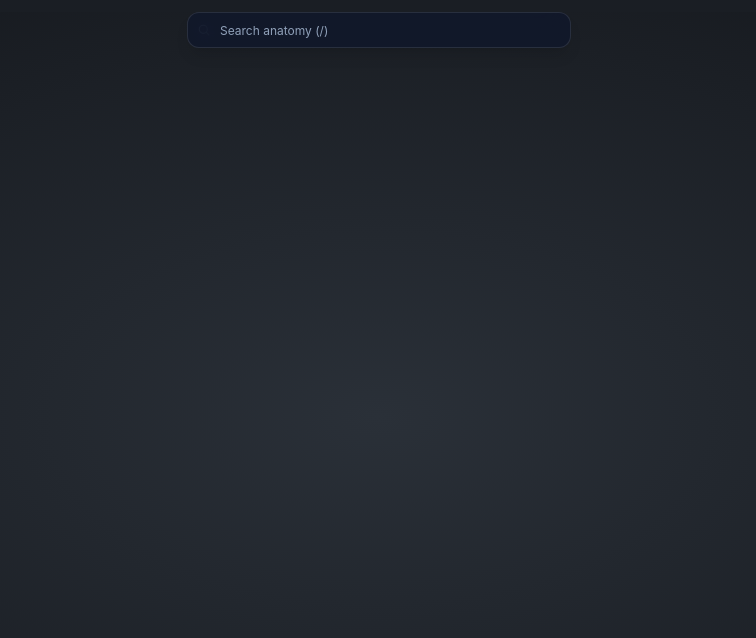
Test: SearchBox › filters hits and dispatches revealAndFocus on ArrowDown + Enter
Type "thi" into the dropdown named "Search structures".
click(379, 30); type("thi")  # box top-left (187, 12), bottom-right (571, 48)
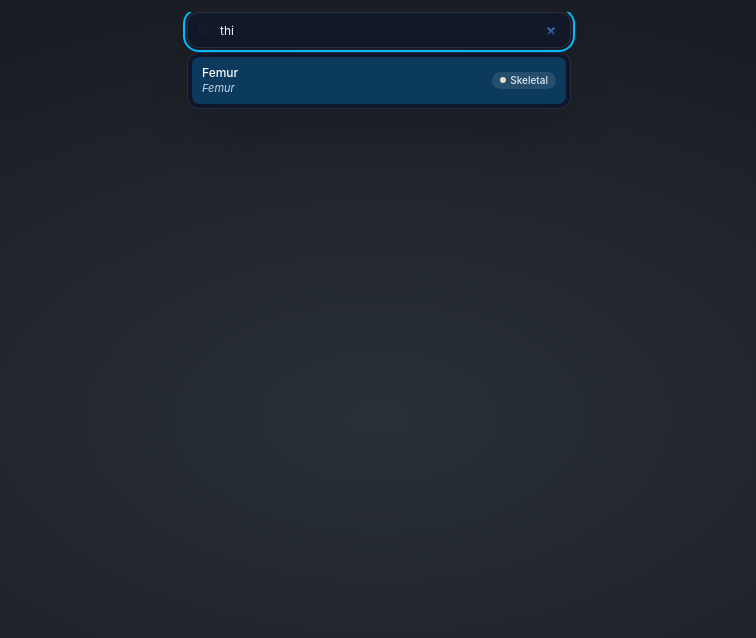
Check: the option "Femur Femur Skeletal" is shown, box top-left (192, 57), bottom-right (566, 104)
Press Arrowdown Enter
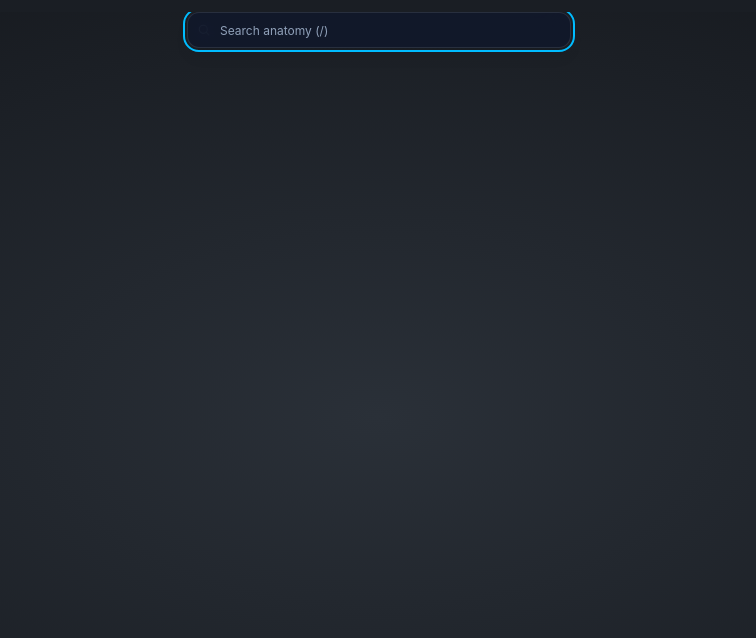
Check: the list is gone
